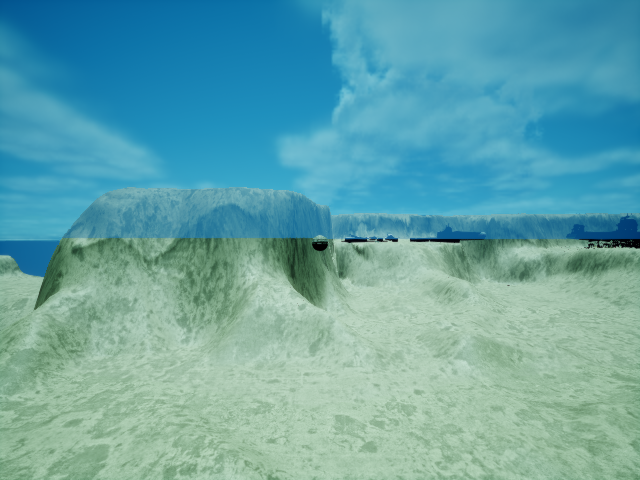Disk: (310, 233, 333, 256)
